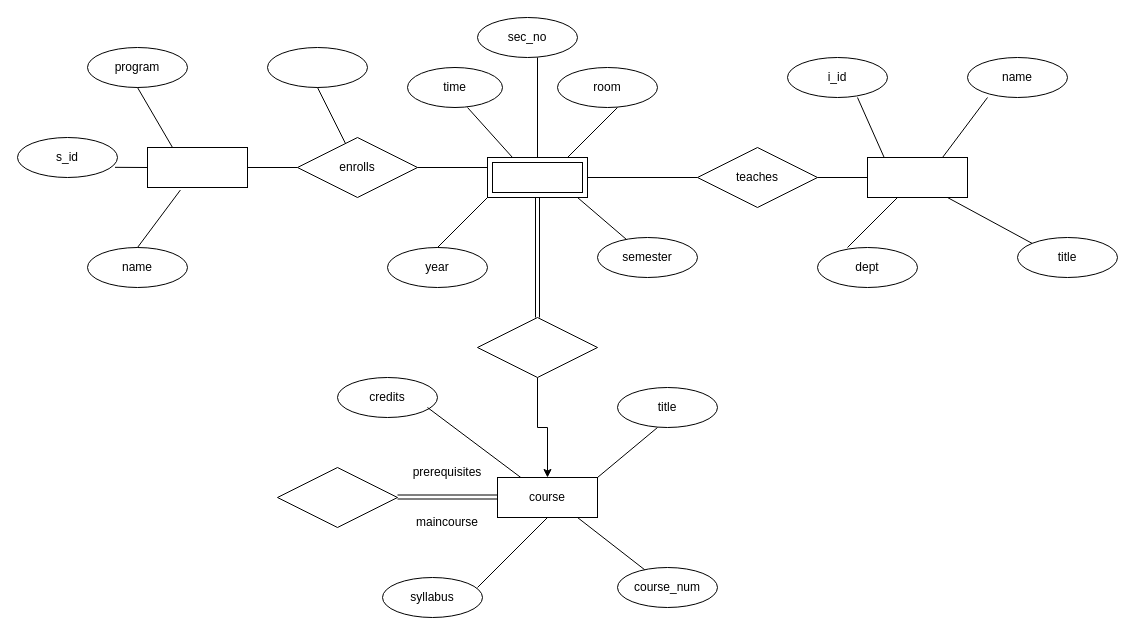
Some shapes in this 1135 by 635 pixel diagram are drawn without their labels. The shapes that lost their labels are listed below. From the top down, each one's centre as x and y in pixels, then its label:
point (317, 67): grade
point (197, 167): student
point (537, 177): course_offerings
point (917, 177): instructor
point (537, 347): is offered
point (337, 497): requires
